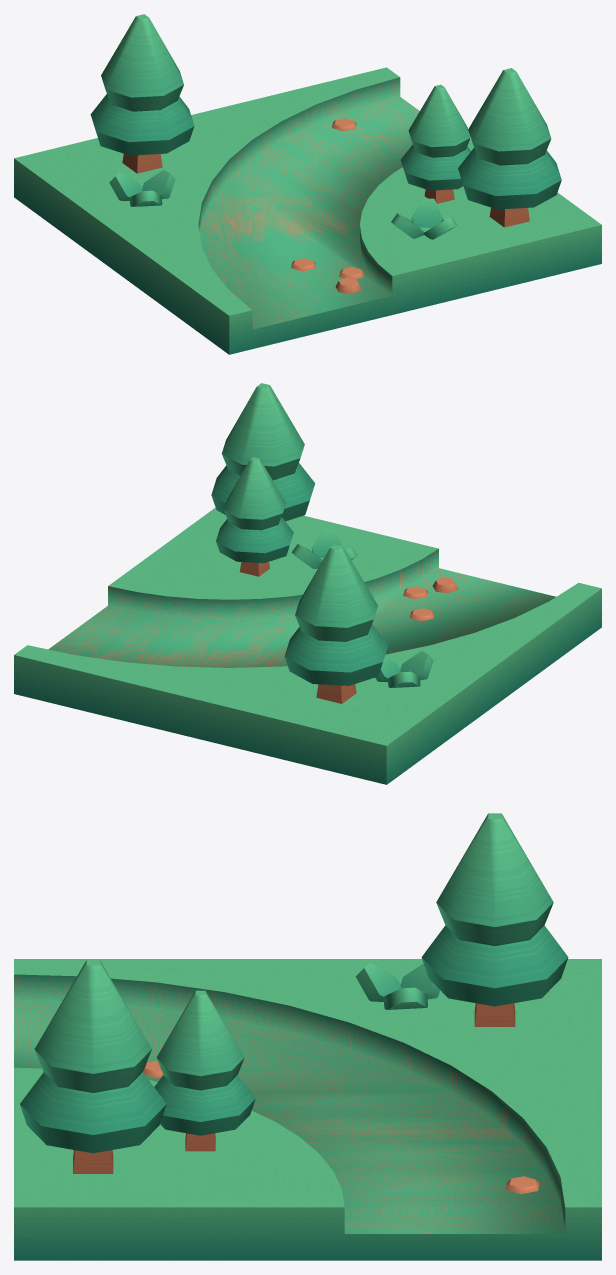
The model's file is tower-defense-kit--tile-corner-large.glb.
3 renders of one model, top to bottom at view 1: azimuth 30°, elevation 25°; view 2: azimuth 150°, elevation 25°; view 3: azimuth 270°, elevation 25°, orthographic. The views are drawn at different scales.
Visible parts, largest first — view 1: tile-corner-large; view 2: tile-corner-large; view 3: tile-corner-large.
Boxes of the visible parts, x1,y1,x2,y2 form: tile-corner-large: [14, 14, 601, 354]; tile-corner-large: [14, 383, 601, 784]; tile-corner-large: [14, 813, 601, 1260].
Bounding box in the file's own units: 2 × 0.96 × 2.
Materials: 1 (1 with a texture image).
